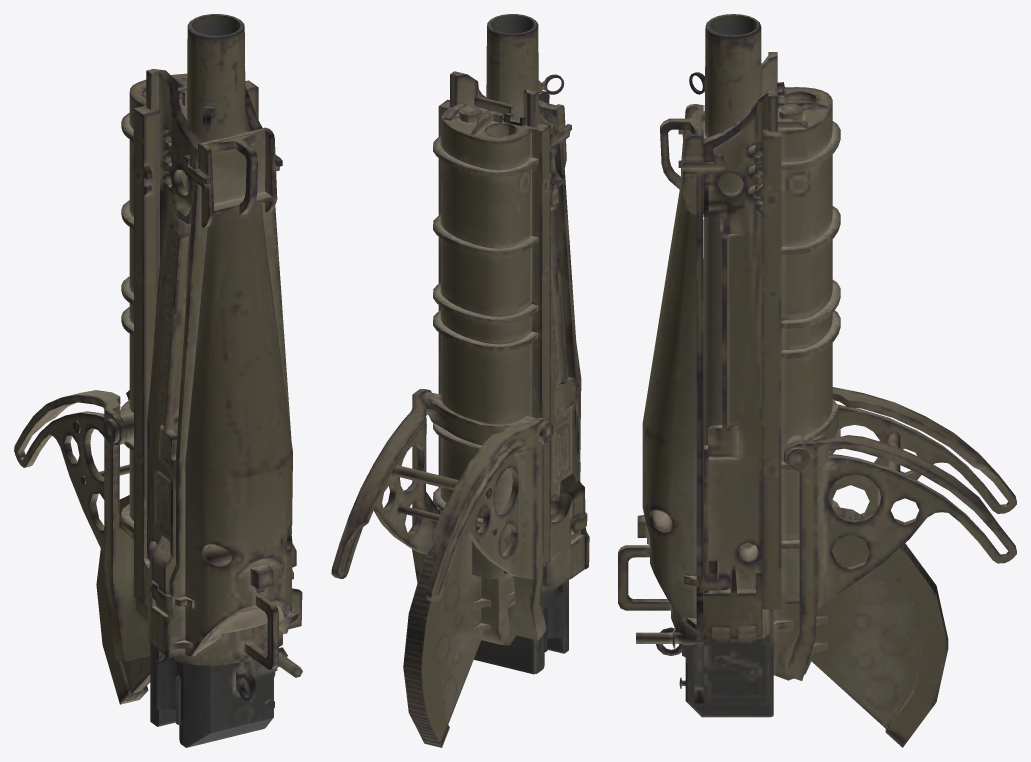
File: Gun_01.glb
3 renders of one model, left to right at view 1: azimuth 30°, elevation 25°; view 2: azimuth 150°, elevation 25°; view 3: azimuth 270°, elevation 25°, orthographic. The views are drawn at different scales.
Visible parts, largest first — view 1: set_0_group_0; view 2: set_0_group_0; view 3: set_0_group_0.
Boxes of the visible parts, x1,y1,x2,y2 form: set_0_group_0: (14, 14, 302, 747); set_0_group_0: (331, 14, 589, 747); set_0_group_0: (618, 14, 1016, 747).
Size of the model in its own units: 0.3246 by 1.58 by 0.7969.
Materials: 1 (1 with a texture image).
